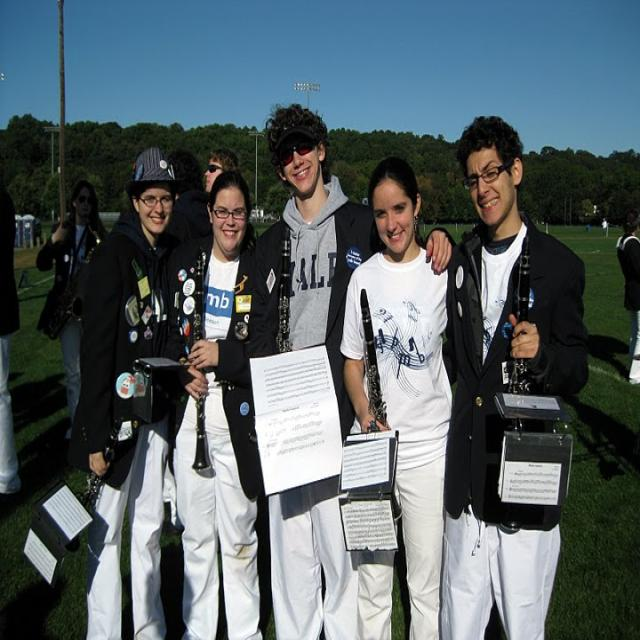clarinet: (66, 416, 125, 552), (189, 244, 215, 476), (357, 286, 393, 435), (509, 233, 534, 394), (274, 222, 298, 359)
saxophone: (43, 220, 107, 336)
